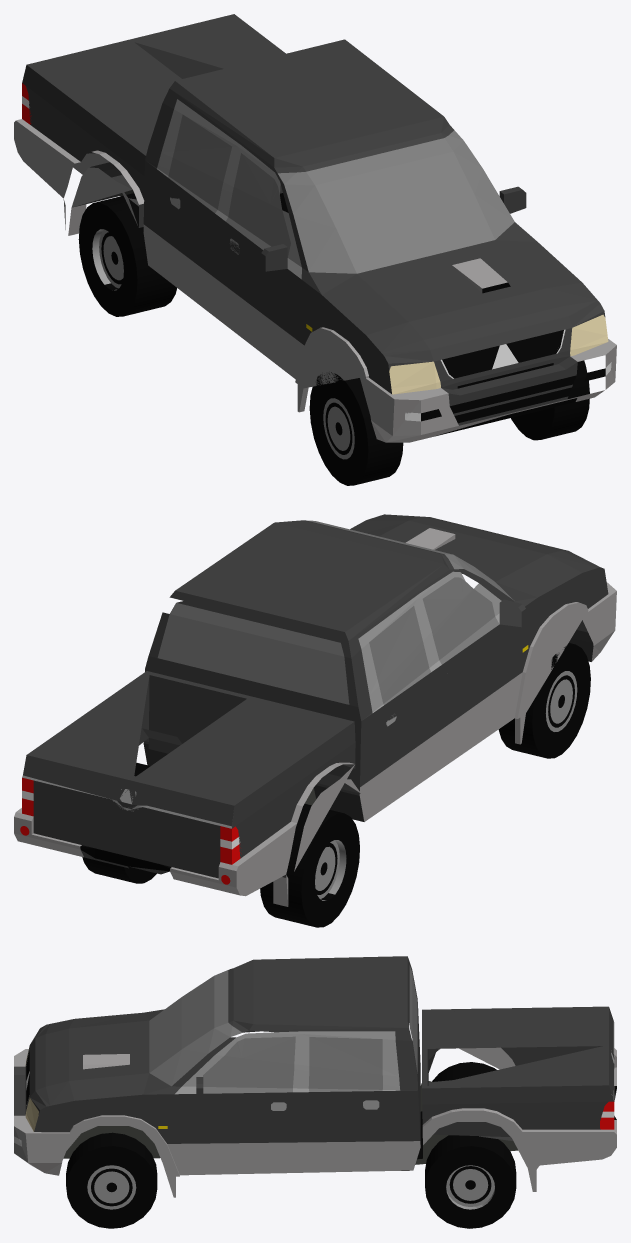
File: Car.glb
The picture shows the model from 3 angles, top to bottom: view 1: azimuth 30°, elevation 25°; view 2: azimuth 150°, elevation 25°; view 3: azimuth 270°, elevation 25°; orthographic projection. The views are drawn at different scales.
Parts seen in each view (by area): view 1: Mesh1 Model, Mesh5 Model, Mesh3 Model, Mesh6 Model, Mesh4 Model; view 2: Mesh1 Model, Mesh5 Model, Mesh3 Model, Mesh7 Model, Mesh4 Model; view 3: Mesh1 Model, Mesh7 Model, Mesh6 Model, Mesh5 Model.
Boxes of the visible parts, box(x1,y1,x2,y2) form: Mesh1 Model: box(14, 14, 616, 442); Mesh5 Model: box(78, 193, 176, 316); Mesh3 Model: box(309, 372, 403, 485); Mesh6 Model: box(511, 360, 589, 440); Mesh4 Model: box(261, 244, 287, 271); Mesh1 Model: box(14, 514, 616, 906); Mesh5 Model: box(260, 803, 359, 927); Mesh3 Model: box(498, 643, 590, 758); Mesh7 Model: box(82, 762, 156, 883); Mesh4 Model: box(499, 599, 526, 627); Mesh1 Model: box(14, 956, 616, 1197); Mesh7 Model: box(425, 1135, 516, 1228); Mesh6 Model: box(66, 1132, 157, 1228); Mesh5 Model: box(432, 1062, 496, 1081).
Bounding box in the file's own units: 0.813 × 0.7621 × 2.1.
